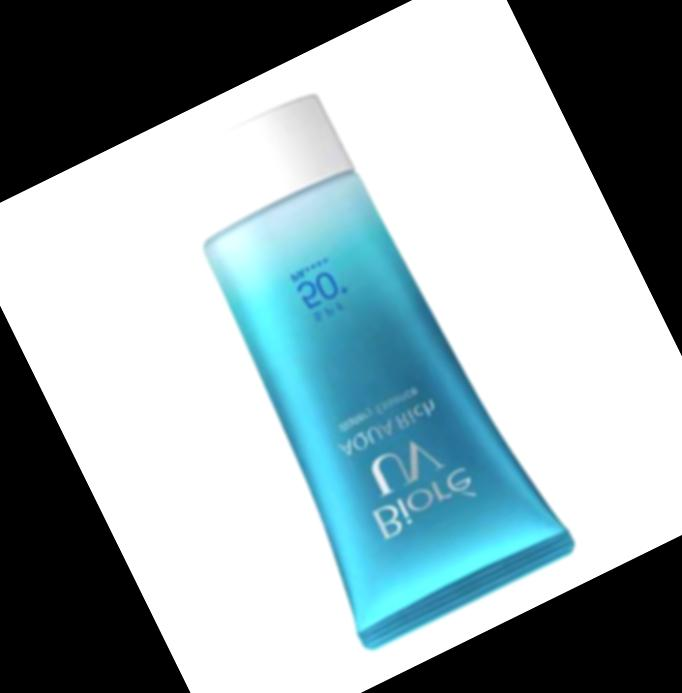cosmetic: (129, 71, 580, 656)
